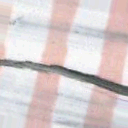crackTip: (1, 55, 128, 100)
